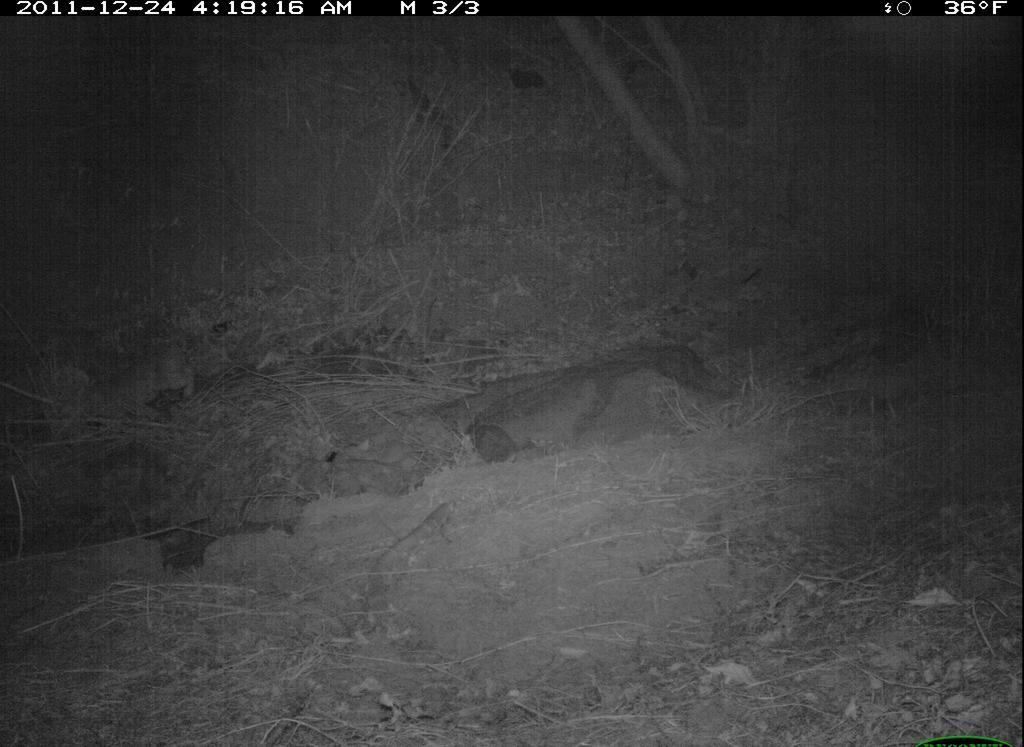bobcat: (87, 330, 204, 413)
